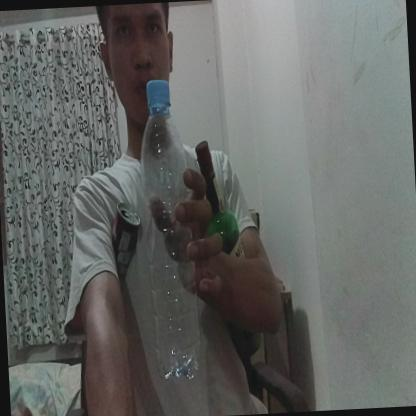alumunium_can: (108, 200, 144, 292)
objects: (194, 135, 264, 358)
plastic_bottles: (135, 72, 204, 383)
